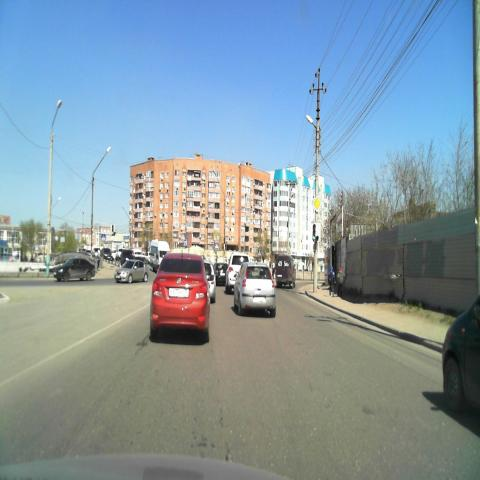2_1: (312, 195, 322, 213)
5_15_2_2: (183, 238, 188, 246)
5_19_1: (102, 233, 106, 241), (215, 242, 219, 250)
